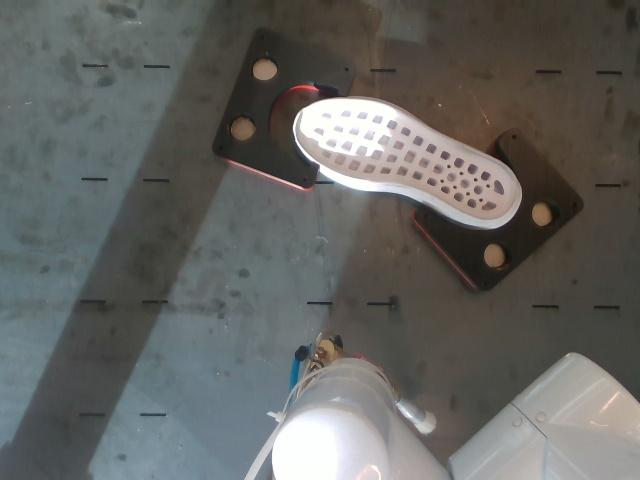shoes: (295, 99, 517, 220)
